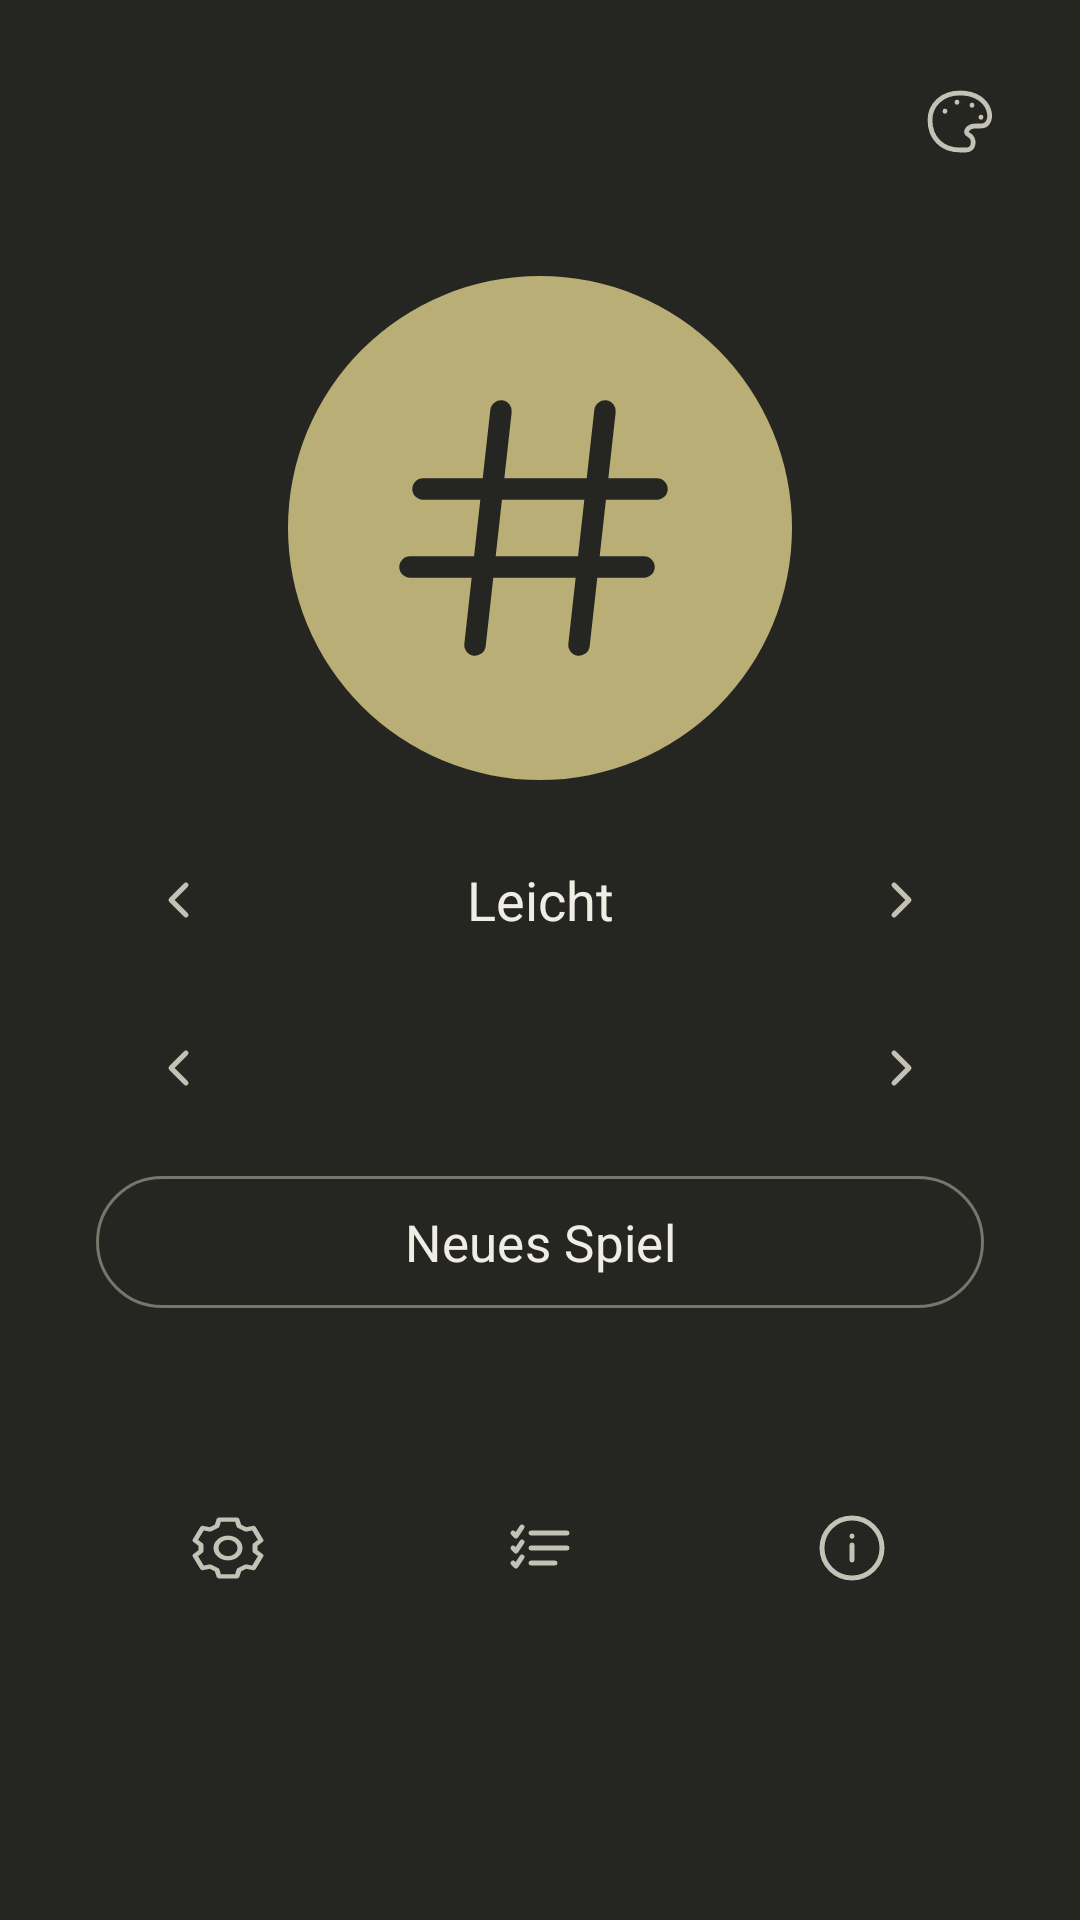

Icons on this 1080px x 1920px Android screen, each with its box as bbox=(x1, y1, x2, y2):
Bestzeiten: bbox=(510, 1524, 570, 1569)
Einstellungen: bbox=(192, 1517, 264, 1579)
Farbthema wählen: bbox=(927, 90, 992, 153)
Nächste Schwierigkeit: bbox=(891, 882, 912, 918)
Nächstes Level: bbox=(891, 1050, 912, 1086)
Vorherige Schwierigkeit: bbox=(168, 882, 189, 918)
Vorheriges Level: bbox=(168, 1050, 189, 1086)
Über Sudoku: bbox=(819, 1515, 885, 1581)
